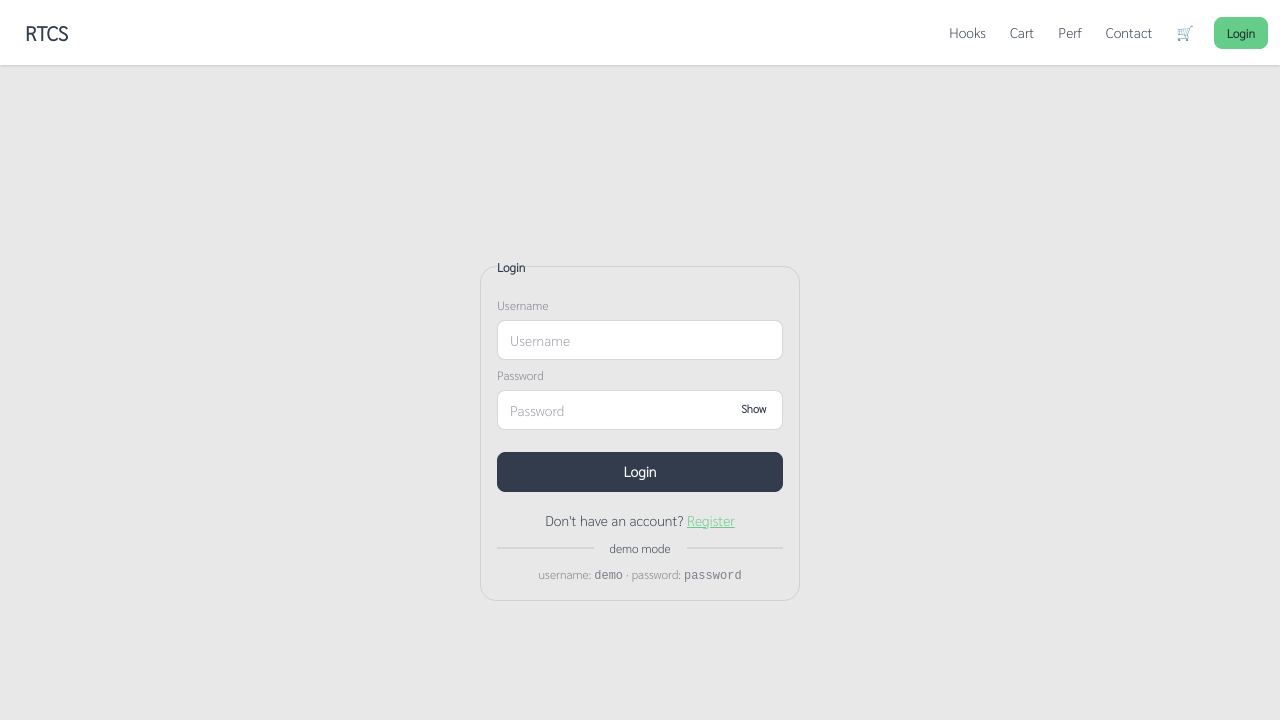
Test: LoginPage › rejects wrong credentials with an alert (MSW mock, real axios client)
Type "demo" into the field labelled "Username".
click(640, 340); type("demo")  # box [497, 320, 783, 360]
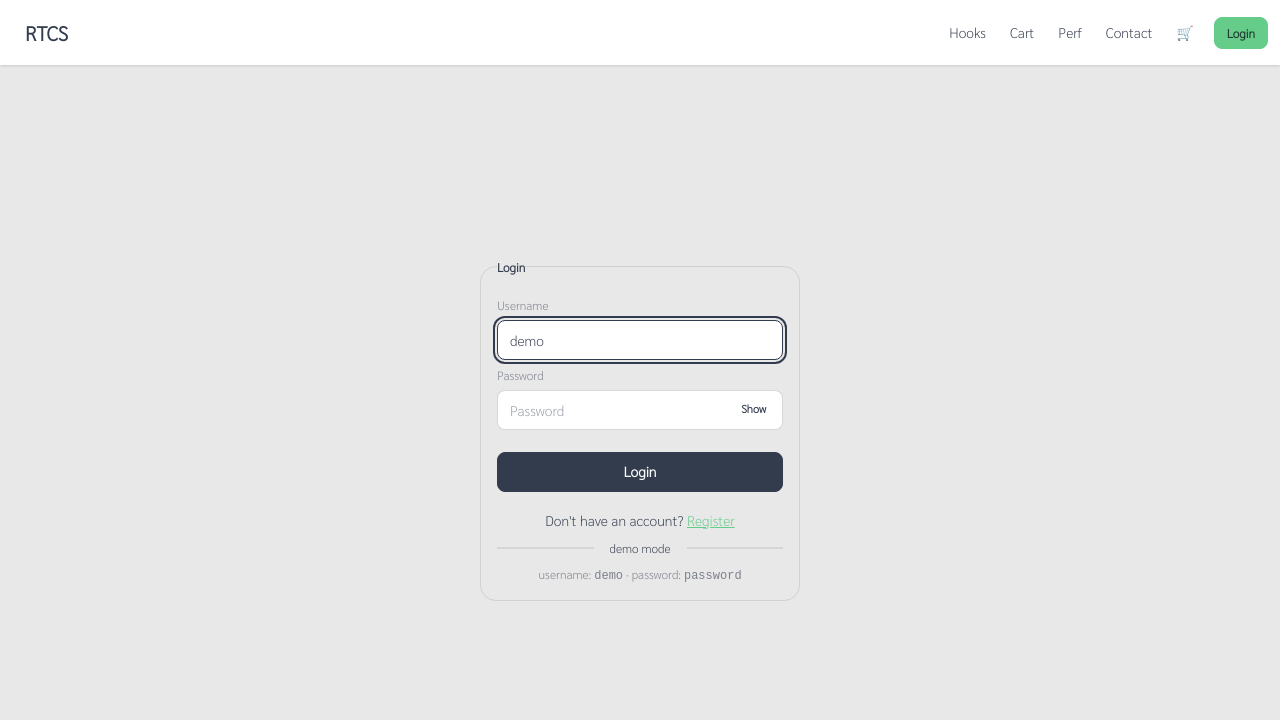
Type "wrongpass" into the password field labelled "Password".
click(640, 410); type("wrongpass")  # box [497, 390, 783, 430]
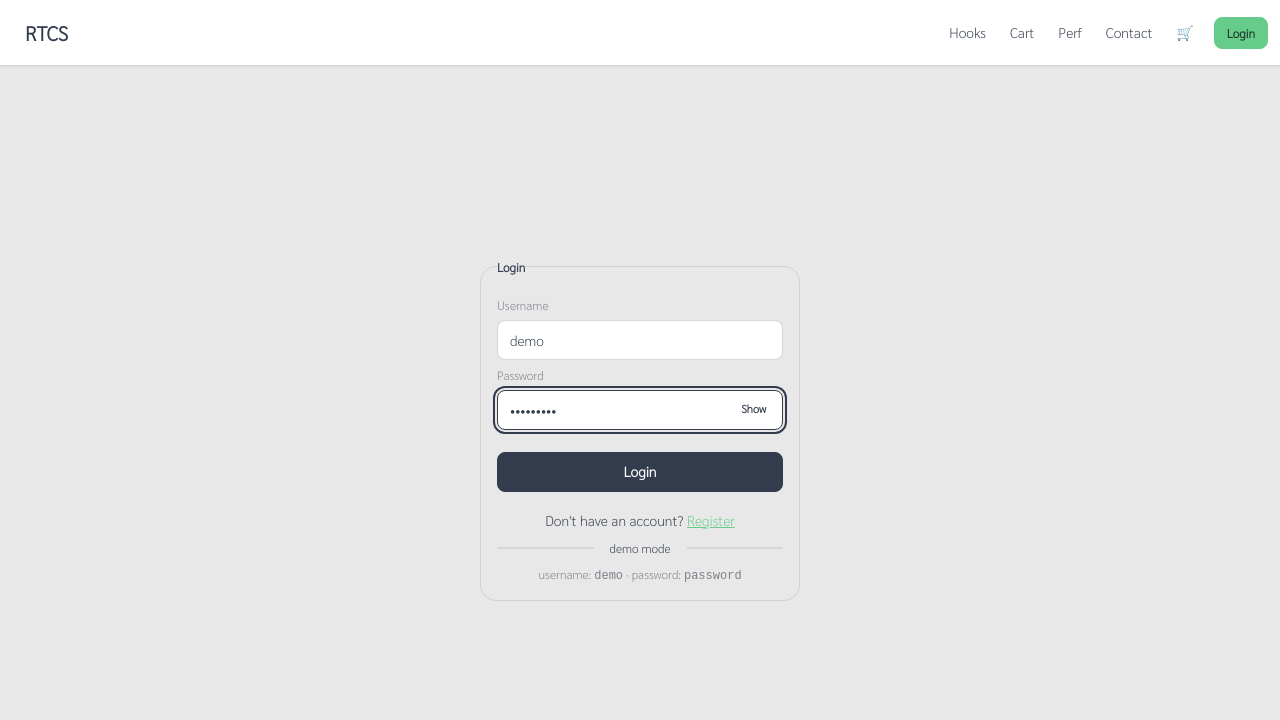
Click the button "Login".
click(640, 472)  # box [497, 452, 783, 492]
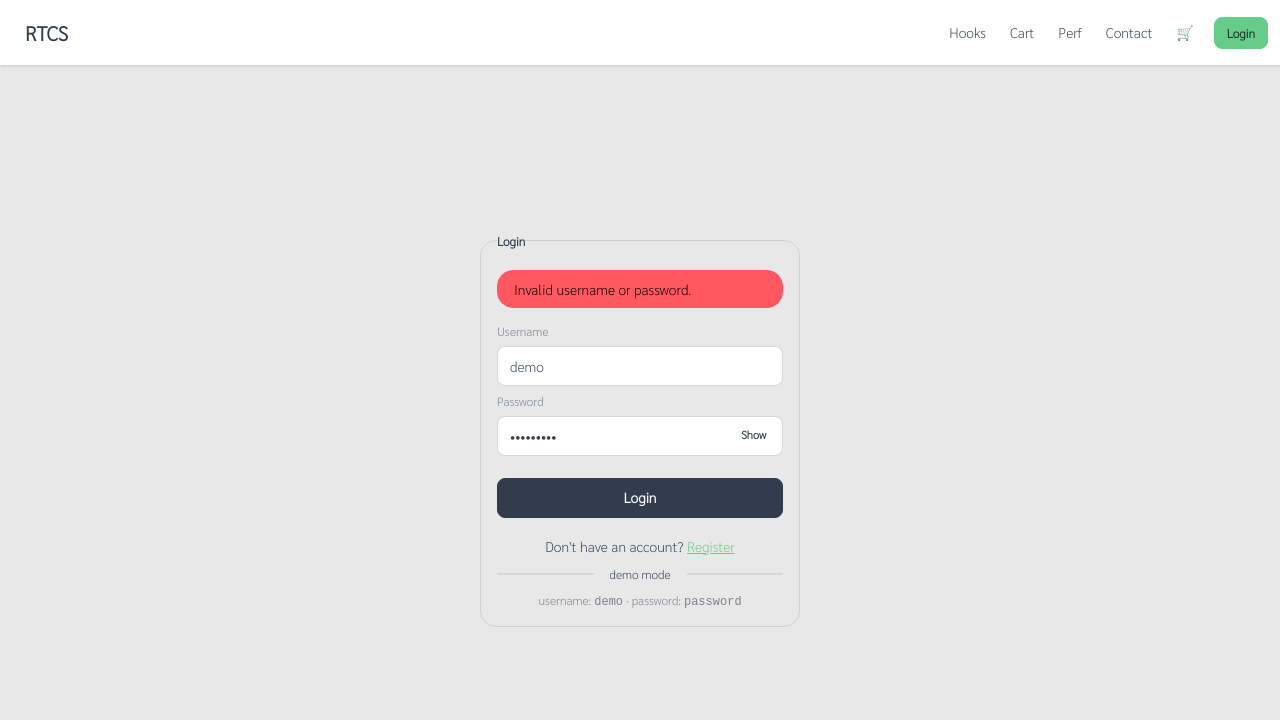
Expected: the message shows "Invalid username or password", [514, 280, 692, 298]
